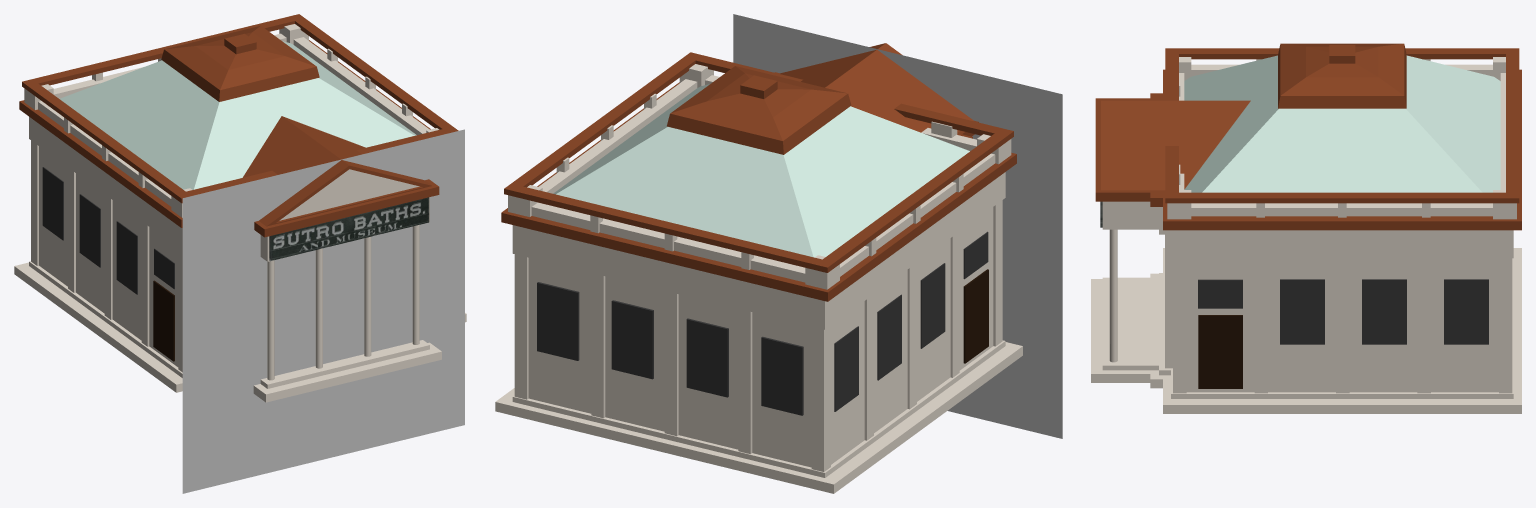
The model's file is entrance_orig_03.fbx.
3 renders of one model, left to right at view 1: azimuth 30°, elevation 25°; view 2: azimuth 150°, elevation 25°; view 3: azimuth 270°, elevation 25°, orthographic. The views are drawn at different scales.
Parts seen in each view (by area): view 1: Plane, mainRoof, building, wallTop.004, mainRoof.001, frontRoof, wallTop.002, wallTop.003, Cube, wallTop.005, frontPillar, wallTop (+12 smaller); view 2: building, mainRoof, Plane, wallTop, wallTop.004, mainRoof.001, sidePillars.009, wallTop.002, wallTop.005, wallTop.003, frontRoof, wallTop.001 (+15 smaller); view 3: mainRoof, building, wallTop, frontRoof, wallTop.004, wallTop.002, mainRoof.001, wallTop.001, wallTop.003, wallTop.005, door2.001, window.001 (+10 smaller).
Part boxes in pixels (x1,y1,x2,y2): Plane: (182,129,464,493); mainRoof: (59,41,416,189); building: (39,146,178,366); wallTop.004: (22,14,458,203); mainRoof.001: (161,25,319,101); frontRoof: (243,116,431,226); wallTop.002: (14,262,466,402); wallTop.003: (19,40,439,237); Cube: (269,197,429,261); wallTop.005: (38,33,429,206); frontPillar: (267,225,419,380); wallTop: (29,117,429,261); building: (528,207,993,467); mainRoof: (553,84,969,257); Plane: (733,14,1062,438); wallTop: (512,172,1005,329); wallTop.004: (504,52,1013,272); mainRoof.001: (667,66,851,154); sidePillars.009: (591,273,830,471); wallTop.002: (495,342,1022,493); wallTop.005: (531,75,995,282); wallTop.003: (501,72,1016,301); frontRoof: (780,43,973,132); wallTop.001: (512,340,1005,477); mainRoof: (1184,55,1500,192); building: (1186,258,1498,392); wallTop: (1102,201,1513,258); frontRoof: (1101,100,1250,190); wallTop.004: (1165,48,1519,203); wallTop.002: (1091,248,1521,413); mainRoof.001: (1278,43,1406,108); wallTop.001: (1102,258,1513,398); wallTop.003: (1095,69,1521,230); wallTop.005: (1179,64,1505,216); door2.001: (1198,315,1242,388); window.001: (1280,279,1324,344).
Size of the model in its own units: 1855 by 1982 by 2053.
